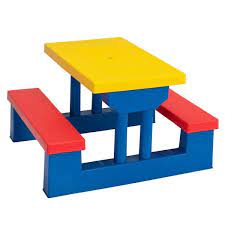obstacle: (5, 31, 219, 209)
